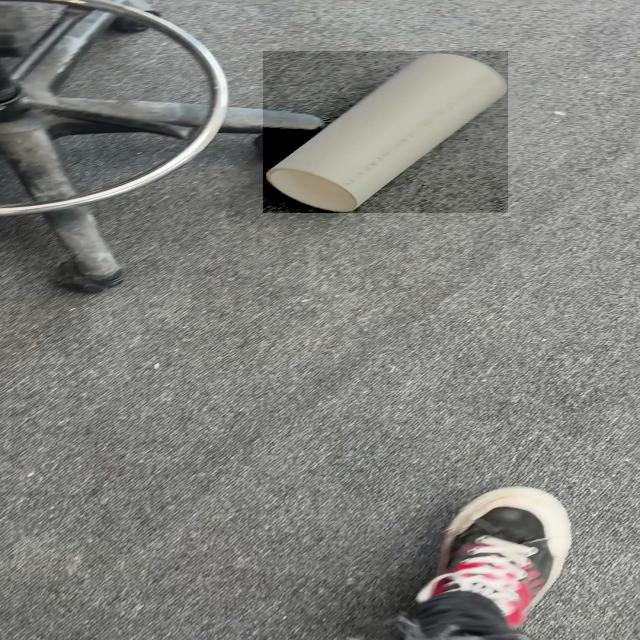Coral: (263, 51, 508, 213)
